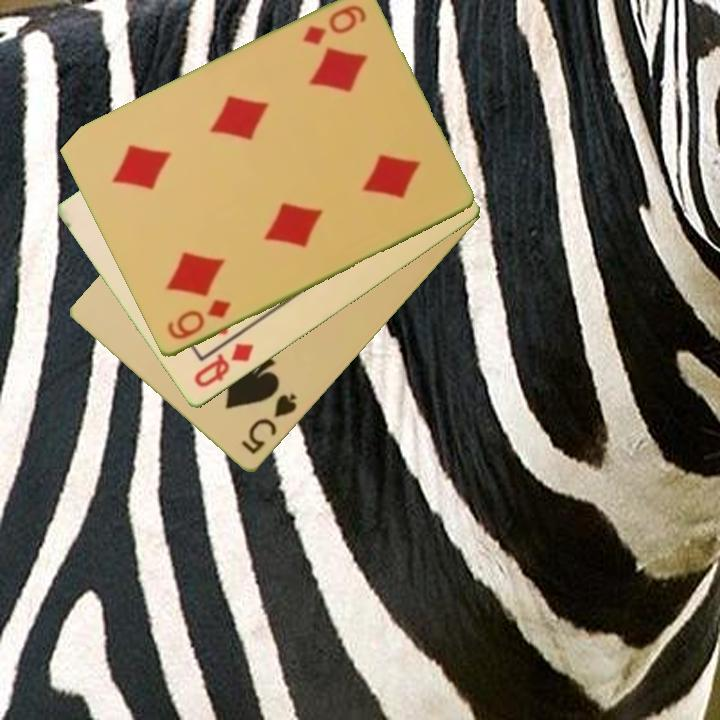5s: (237, 390, 300, 458)
6d: (163, 296, 234, 343), (298, 2, 369, 49)
Qd: (190, 340, 257, 391)
